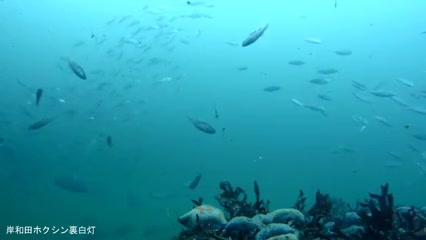smallfish: (238, 21, 273, 54), (181, 109, 218, 138), (63, 55, 92, 88)
